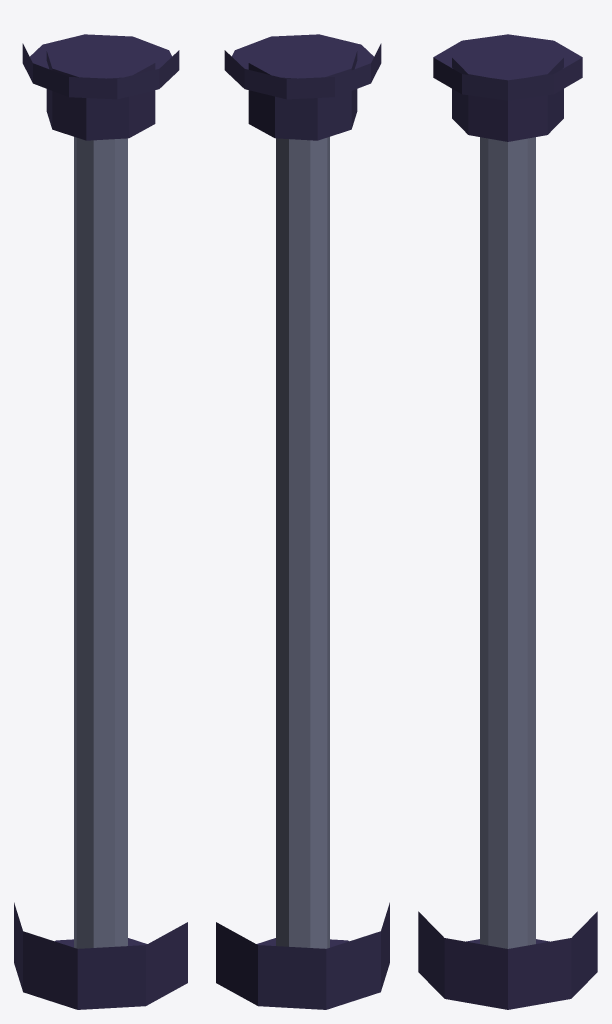
File: hop_post.glb
The picture shows the model from 3 angles, left to right: view 1: azimuth 30°, elevation 25°; view 2: azimuth 150°, elevation 25°; view 3: azimuth 270°, elevation 25°; orthographic projection.
Parts seen in each view (by area): view 1: hop_post; view 2: hop_post; view 3: hop_post.
Part boxes in pixels (<box>): hop_post: <box>14,34,187,1009</box>; hop_post: <box>216,34,389,1009</box>; hop_post: <box>418,34,597,1009</box>.
Bounding box in the file's own units: 0.32 × 1.82 × 0.32.
